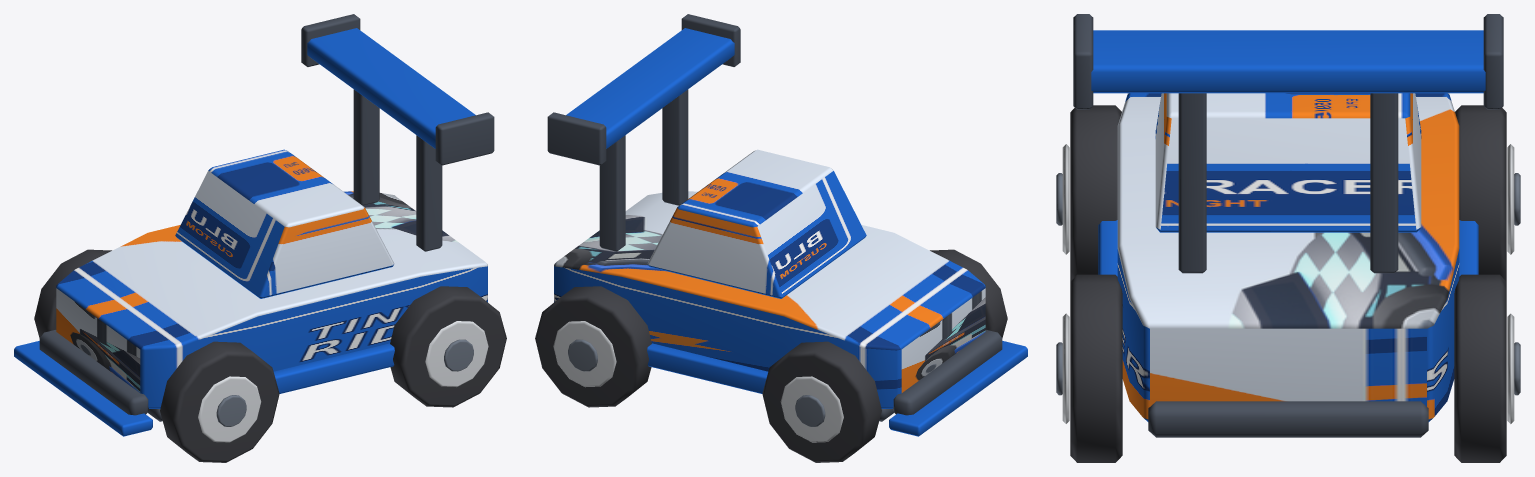
The picture shows the model from 3 angles, left to right: view 1: azimuth 30°, elevation 25°; view 2: azimuth 150°, elevation 25°; view 3: azimuth 270°, elevation 25°; orthographic projection. The views are drawn at different scales.
Visible parts, largest first — view 1: TC-01_connected_shell, TC-01_cabin, Tire, rear airfoil, Tire.002, custom chin, front bumper, custom side guard, wing support.001, wing support, wing endplate, Rim (+5 smaller); view 2: TC-01_connected_shell, TC-01_cabin, Tire.001, rear airfoil, Tire.003, custom chin, front bumper, custom side guard.001, wing support, wing support.001, wing endplate.001, Rim.001 (+5 smaller); view 3: TC-01_connected_shell, TC-01_cabin, rear airfoil, rear bumper, Tire.002, Tire.003, Tire, Tire.001, wing support, wing support.001, wing endplate, wing endplate.001 (+6 smaller).
Part boxes in pixels (x1,y1,x2,y2): TC-01_connected_shell: (56,191,487,408); TC-01_cabin: (175,149,394,298); Tire: (160,341,279,462); rear airfoil: (307,28,475,148); Tire.002: (390,286,506,407); custom chin: (14,341,152,436); front bumper: (39,330,148,415); custom side guard: (273,343,394,393); wing support.001: (353,89,379,205); wing support: (416,135,442,251); wing endplate: (435,112,494,165); Rim: (198,376,261,442); TC-01_connected_shell: (554,191,985,408); TC-01_cabin: (647,149,866,298); Tire.001: (762,341,881,462); rear airfoil: (566,28,734,148); Tire.003: (535,286,651,407); custom chin: (889,341,1027,436); front bumper: (893,330,1002,415); custom side guard.001: (647,343,768,393); wing support: (662,89,688,205); wing support.001: (599,135,625,251); wing endplate.001: (547,112,606,165); Rim.001: (780,376,843,442); TC-01_connected_shell: (1117,93,1459,421); TC-01_cabin: (1155,93,1421,232); rear airfoil: (1091,30,1485,93); rear bumper: (1148,401,1428,437); Tire.002: (1070,274,1122,462); Tire.003: (1454,274,1506,462); Tire: (1070,105,1121,281); Tire.001: (1455,105,1506,281); wing support: (1178,93,1206,273); wing support.001: (1370,93,1398,273); wing endplate: (1073,14,1093,109); wing endplate.001: (1483,14,1503,109).
Size of the model in its own units: 339 by 237 by 231.
